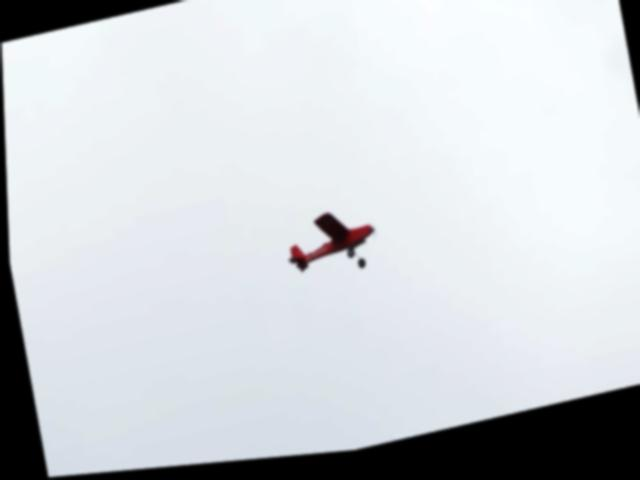plane: (279, 209, 378, 290)
